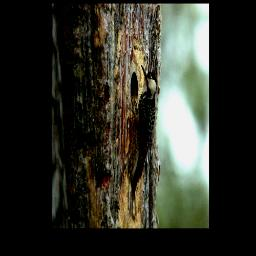Woodpecker: (124, 60, 161, 210)
